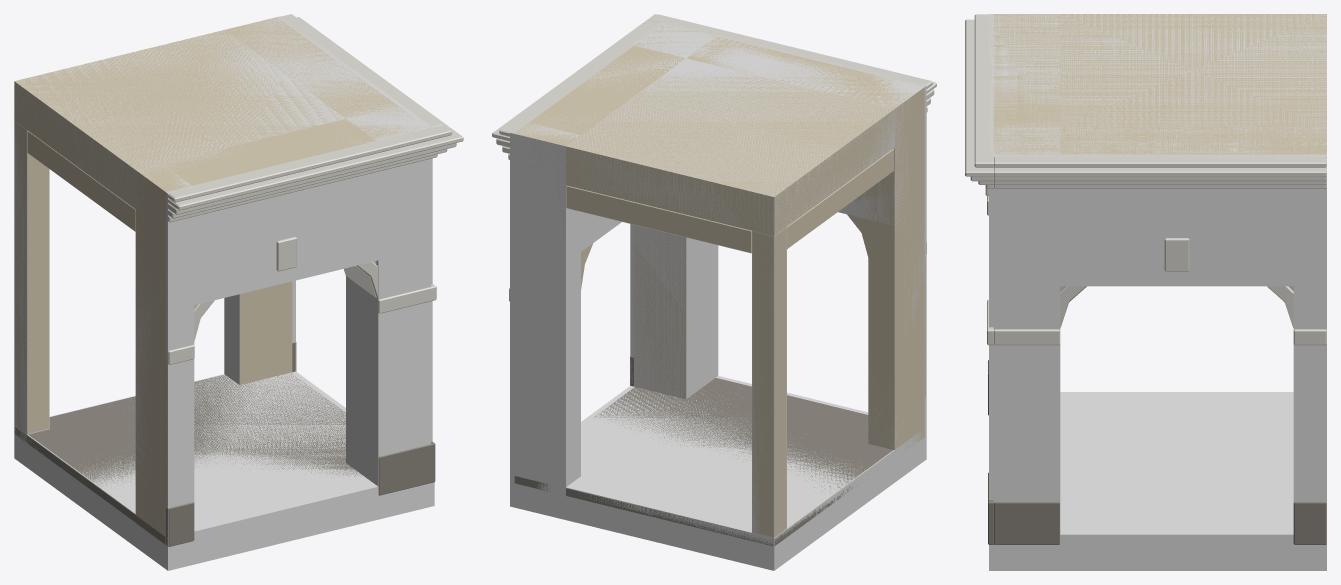
File: KIT_Arcade_Colonial_Corner_A.glb
3 renders of one model, left to right at view 1: azimuth 30°, elevation 25°; view 2: azimuth 150°, elevation 25°; view 3: azimuth 270°, elevation 25°, orthographic. The views are drawn at different scales.
Parts seen in each view (by area): view 1: KIT_Arcade_Colonial_Corner_A_COL, KIT_Arcade_Colonial_Corner_A; view 2: KIT_Arcade_Colonial_Corner_A_COL, KIT_Arcade_Colonial_Corner_A; view 3: KIT_Arcade_Colonial_Corner_A_COL, KIT_Arcade_Colonial_Corner_A.
Part boxes in pixels (box(x1,y1,x2,y2)): KIT_Arcade_Colonial_Corner_A_COL: box(14, 16, 434, 570); KIT_Arcade_Colonial_Corner_A: box(14, 14, 463, 546); KIT_Arcade_Colonial_Corner_A_COL: box(510, 22, 926, 570); KIT_Arcade_Colonial_Corner_A: box(492, 14, 936, 546); KIT_Arcade_Colonial_Corner_A_COL: box(989, 14, 1326, 570); KIT_Arcade_Colonial_Corner_A: box(965, 14, 1326, 544).
Size of what is drawn, in the model's own units: 3.8 by 4.8 by 3.8.
